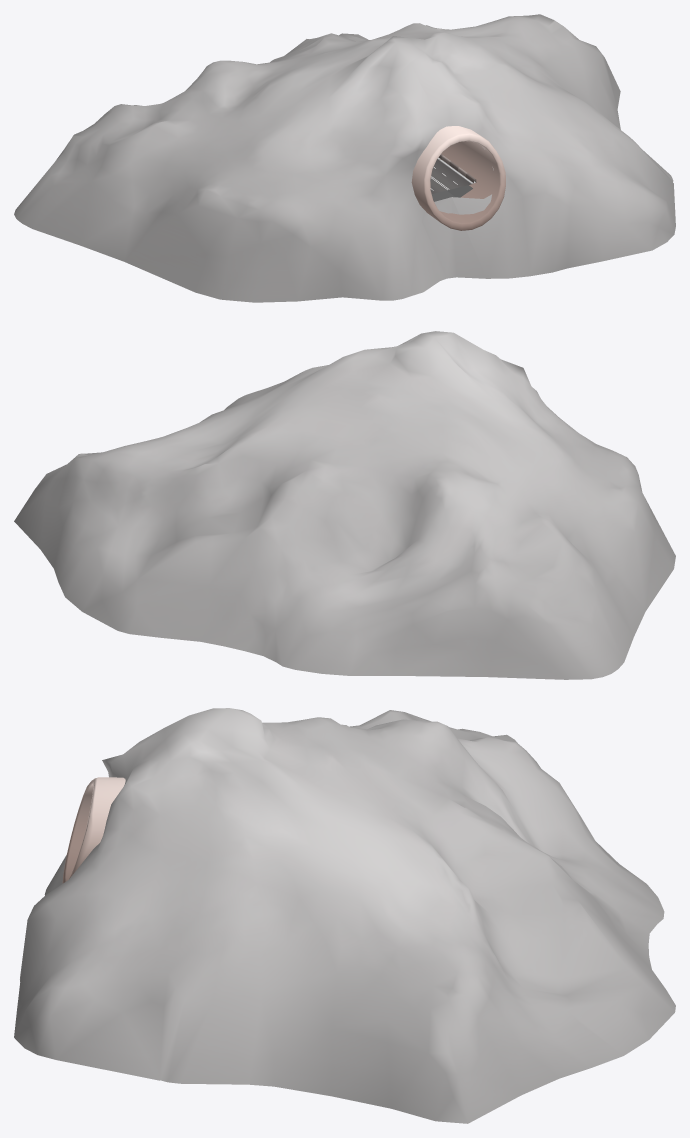
The model's file is Mountain_08.glb.
The picture shows the model from 3 angles, top to bottom: view 1: azimuth 30°, elevation 25°; view 2: azimuth 150°, elevation 25°; view 3: azimuth 270°, elevation 25°; orthographic projection. The views are drawn at different scales.
Visible parts, largest first — view 1: Mountain_08; view 2: Mountain_08; view 3: Mountain_08.
Boxes of the visible parts, x1,y1,x2,y2 form: Mountain_08: (14,14,675,302); Mountain_08: (14,331,675,679); Mountain_08: (14,708,675,1123).
Size of the model in its own units: 15.66 by 4.71 by 12.37.
1 material, 1 textured.
